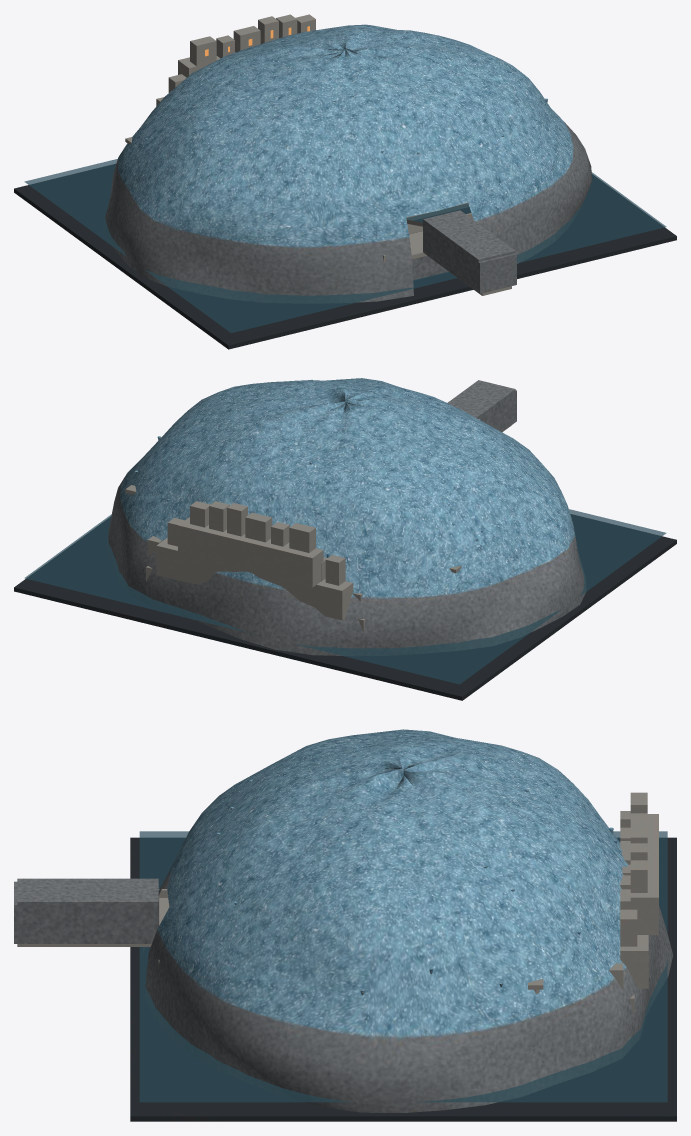
File: helikon_city.glb
3 renders of one model, top to bottom at view 1: azimuth 30°, elevation 25°; view 2: azimuth 150°, elevation 25°; view 3: azimuth 270°, elevation 25°, orthographic. The views are drawn at different scales.
Parts seen in each view (by area): view 1: city_interior, LAKE_water; view 2: city_interior, LAKE_water; view 3: city_interior, LAKE_water.
Boxes of the visible parts, x1,y1,x2,y2 form: city_interior: (14,14,676,349); LAKE_water: (24,159,666,333); city_interior: (14,378,676,700); LAKE_water: (24,509,666,684); city_interior: (14,729,676,1121); LAKE_water: (139,831,667,1102).
Size of the model in its own units: 70 by 25.05 by 70.35.
Materials: 3 (2 with a texture image).
